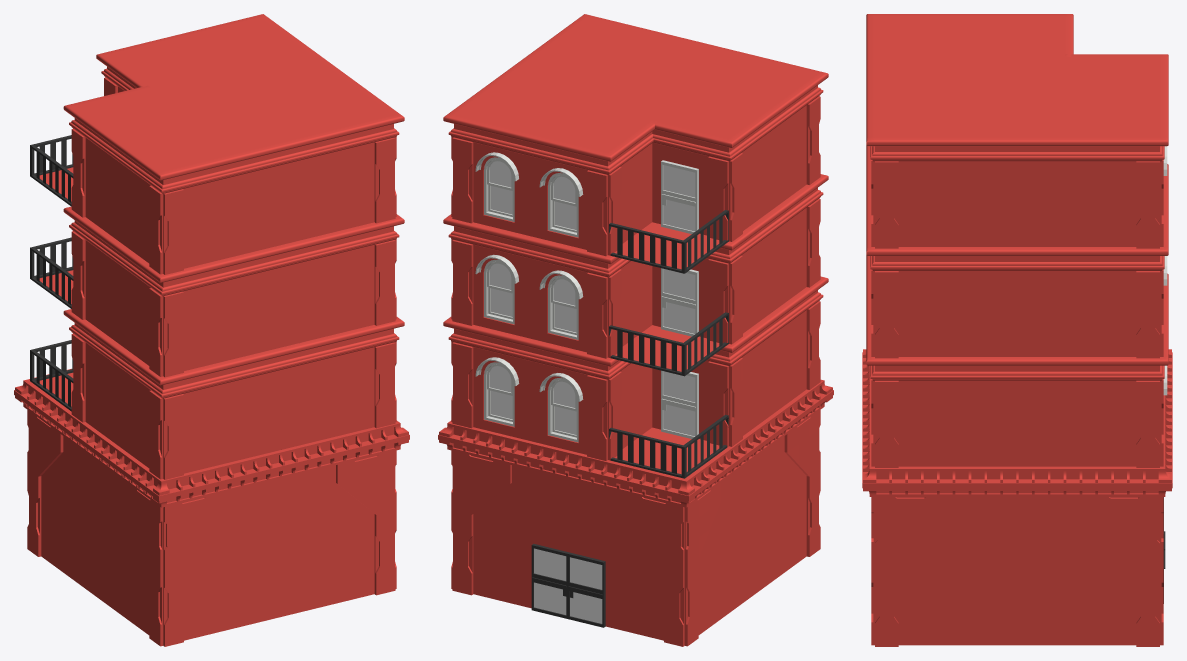
File: Prop_Building_4.fbx
3 views of the same model, side by side, from view 1: azimuth 30°, elevation 25°; view 2: azimuth 150°, elevation 25°; view 3: azimuth 270°, elevation 25° (orthographic). The views are drawn at different scales.
Visible parts, largest first — view 1: Cornice_Corner_LightGray_V2.038, Metal_Panel_V1_3.093, Metal_Panel_V1_1.023, BrickWallLight_Window_V1_1.214, BrickWallLight_Window_V1_1.219, BrickWallLight_Window_V1_1.230, Metal_Panel_V1_3.082, BrickWallLight_Window_V1_1.220, BrickWallLight_Window_V1_1.231, BrickWallLight_Window_V1_1.215, BrickWallLight_Window_V1_1.229, BrickWallLight_Window_V1_1.213 (+42 smaller); view 2: Metal_Panel_V1_3.093, Cornice_Corner_LightGray_V2.038, Door.001, BrickWallLight_Window_V2_1.009, BrickWallLight_Window_V2_1.010, BrickWallLight_Window_V2_1.008, Metal_Panel_V1_3.076, Metal_Panel_V1_3.075, BrickWallLight_Window_V2_3.008, BrickWallLight_Window_V2_3.010, BrickWallLight_Window_V2_3.009, Metal_Panel_V1_1.027 (+53 smaller); view 3: Cornice_Corner_LightGray_V2.038, Metal_Panel_V1_3.093, BrickWallLight_Window_V1_1.217, Metal_Panel_V1_1.026, BrickWallLight_Window_V1_1.222, BrickWallLight_Window_V1_1.233, BrickWallLight_Window_V1_1.216, BrickWallLight_Window_V1_1.218, Metal_Panel_V1_3.085, Metal_Panel_V1_3.084, BrickWallLight_Window_V1_1.221, BrickWallLight_Window_V1_1.223 (+17 smaller).
Part boxes in pixels (x1,y1,x2,y2): Cornice_Corner_LightGray_V2.038: [63, 14, 404, 193]; Metal_Panel_V1_3.093: [27, 77, 396, 646]; Metal_Panel_V1_1.023: [240, 528, 316, 626]; BrickWallLight_Window_V1_1.214: [240, 361, 316, 459]; BrickWallLight_Window_V1_1.219: [240, 259, 316, 357]; BrickWallLight_Window_V1_1.230: [240, 156, 316, 254]; Metal_Panel_V1_3.082: [317, 514, 374, 607]; BrickWallLight_Window_V1_1.220: [317, 244, 374, 338]; BrickWallLight_Window_V1_1.231: [317, 142, 374, 236]; BrickWallLight_Window_V1_1.215: [317, 347, 374, 440]; BrickWallLight_Window_V1_1.229: [183, 175, 239, 268]; BrickWallLight_Window_V1_1.213: [183, 380, 239, 473]; Metal_Panel_V1_3.093: [451, 96, 820, 646]; Cornice_Corner_LightGray_V2.038: [443, 14, 828, 174]; Door.001: [531, 543, 605, 627]; BrickWallLight_Window_V2_1.009: [473, 244, 530, 338]; BrickWallLight_Window_V2_1.010: [473, 142, 530, 236]; BrickWallLight_Window_V2_1.008: [473, 347, 530, 440]; Metal_Panel_V1_3.076: [473, 514, 530, 607]; Metal_Panel_V1_3.075: [608, 547, 664, 640]; BrickWallLight_Window_V2_3.008: [531, 361, 587, 454]; BrickWallLight_Window_V2_3.010: [531, 156, 587, 249]; BrickWallLight_Window_V2_3.009: [531, 259, 587, 352]; Metal_Panel_V1_1.027: [531, 470, 607, 546]; Cornice_Corner_LightGray_V2.038: [866, 14, 1168, 161]; Metal_Panel_V1_3.093: [871, 159, 1163, 646]; BrickWallLight_Window_V1_1.217: [970, 380, 1064, 466]; Metal_Panel_V1_1.026: [970, 559, 1064, 645]; BrickWallLight_Window_V1_1.222: [970, 271, 1064, 356]; BrickWallLight_Window_V1_1.233: [970, 161, 1064, 246]; BrickWallLight_Window_V1_1.216: [898, 380, 969, 466]; BrickWallLight_Window_V1_1.218: [1065, 380, 1136, 466]; Metal_Panel_V1_3.085: [898, 559, 969, 645]; Metal_Panel_V1_3.084: [1065, 559, 1136, 645]; BrickWallLight_Window_V1_1.221: [898, 271, 969, 356]; BrickWallLight_Window_V1_1.223: [1065, 271, 1136, 356].
Bounding box in the file's own units: 653 × 1179 × 653.
